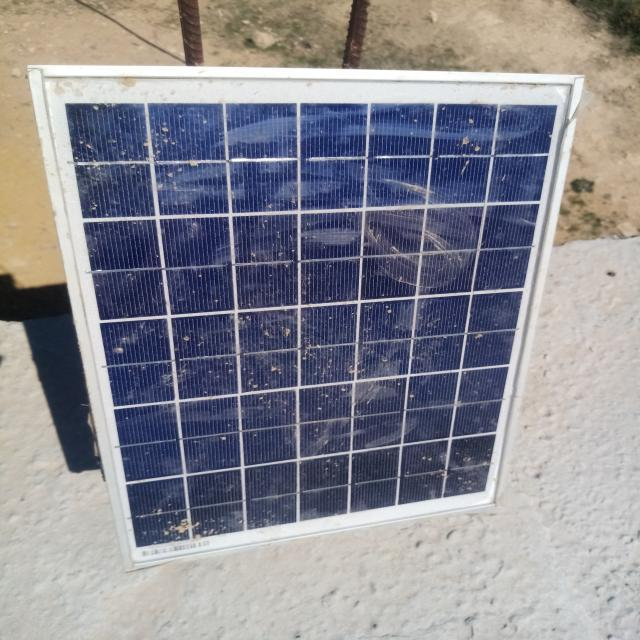faulty: (29, 65, 589, 568)
